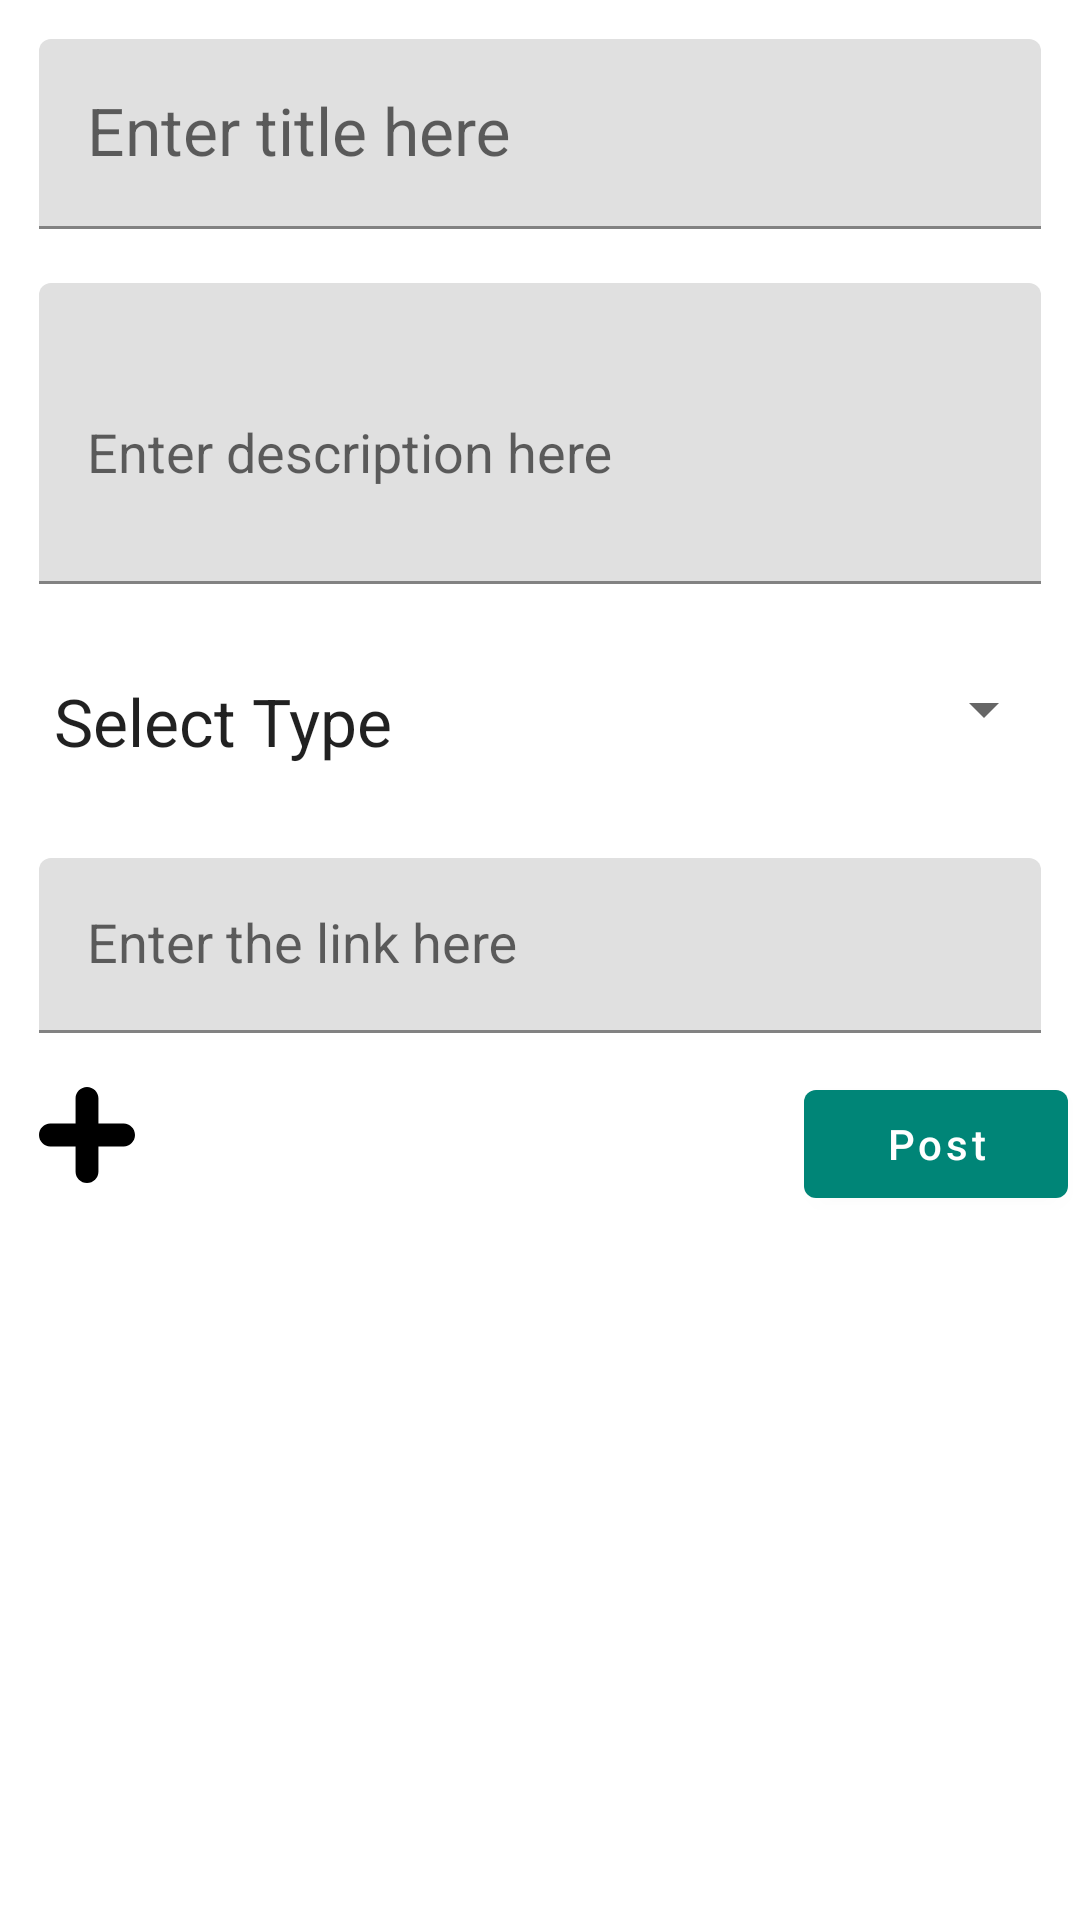

Icons on this 1080×1920 Android screen, each with its box as (x1, y1, x2, y2):
add: (39, 1087, 135, 1183)
